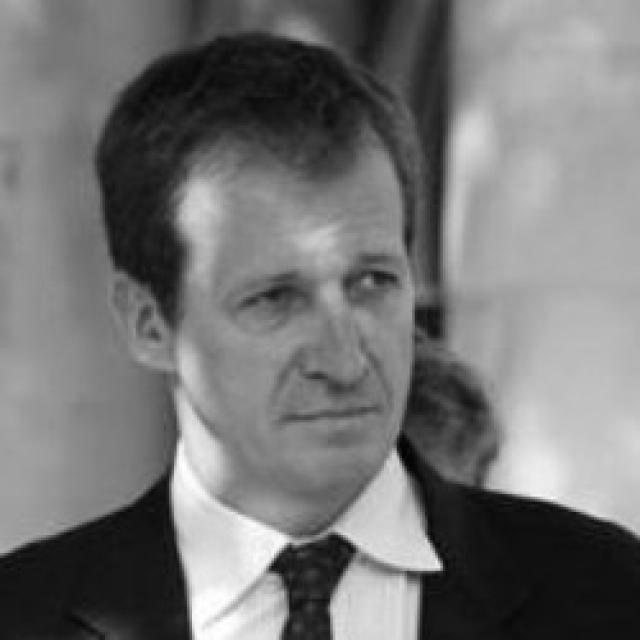real: (130, 66, 442, 496), (215, 245, 417, 332)
